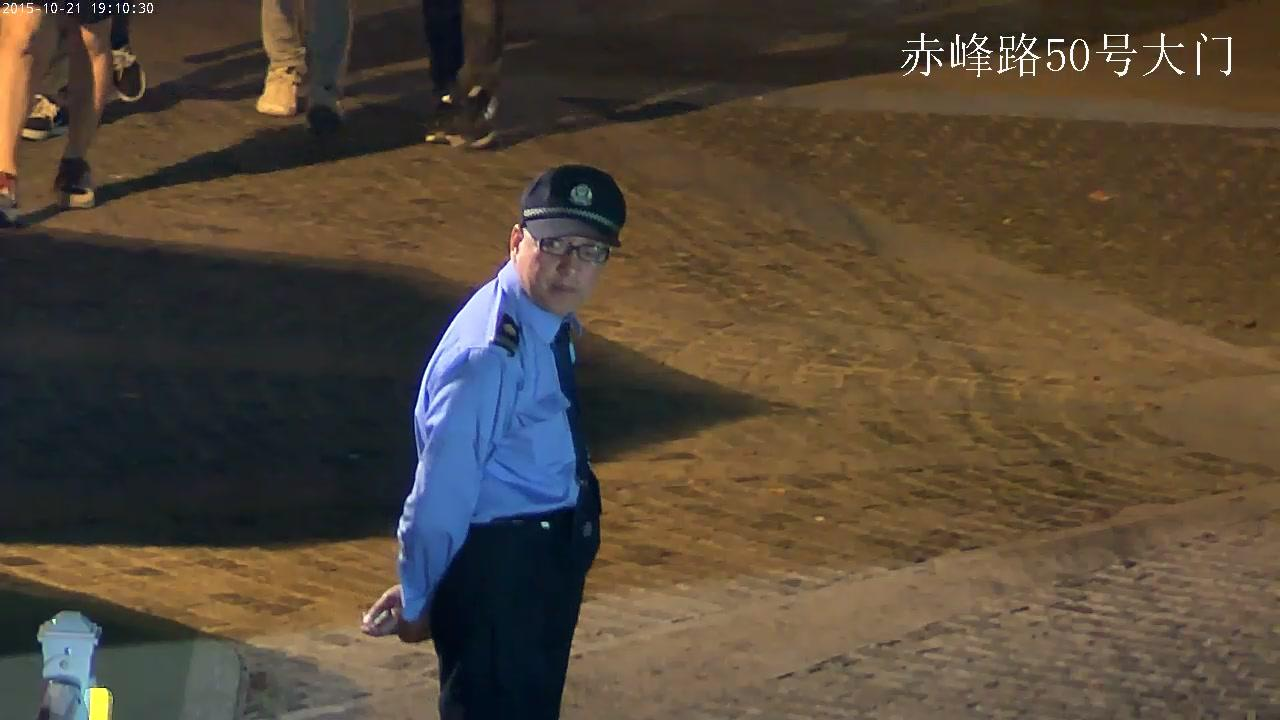face: (520, 228, 603, 313)
